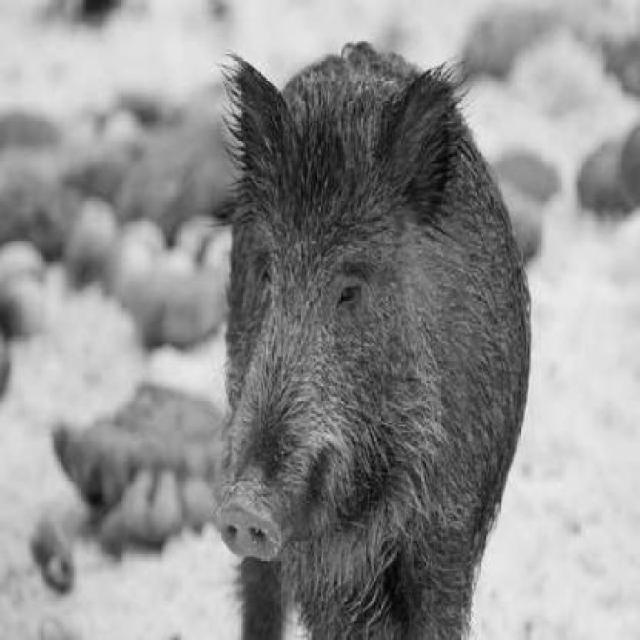Boar: (206, 20, 532, 638)
